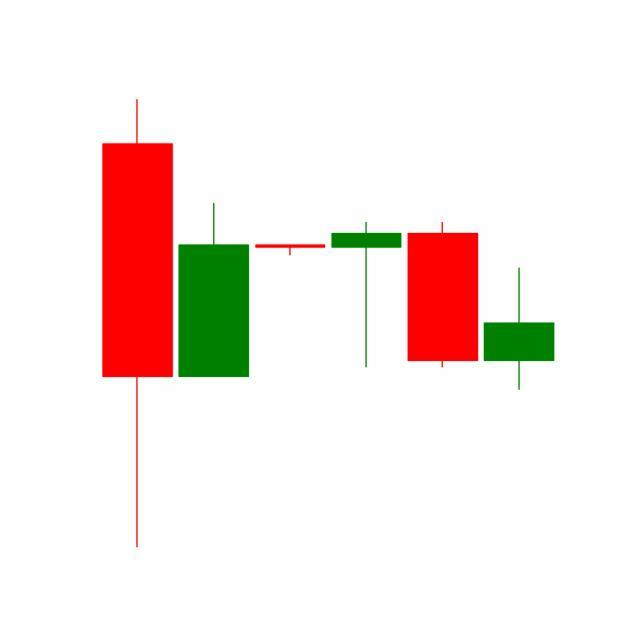Marubozu: (404, 221, 482, 371)
